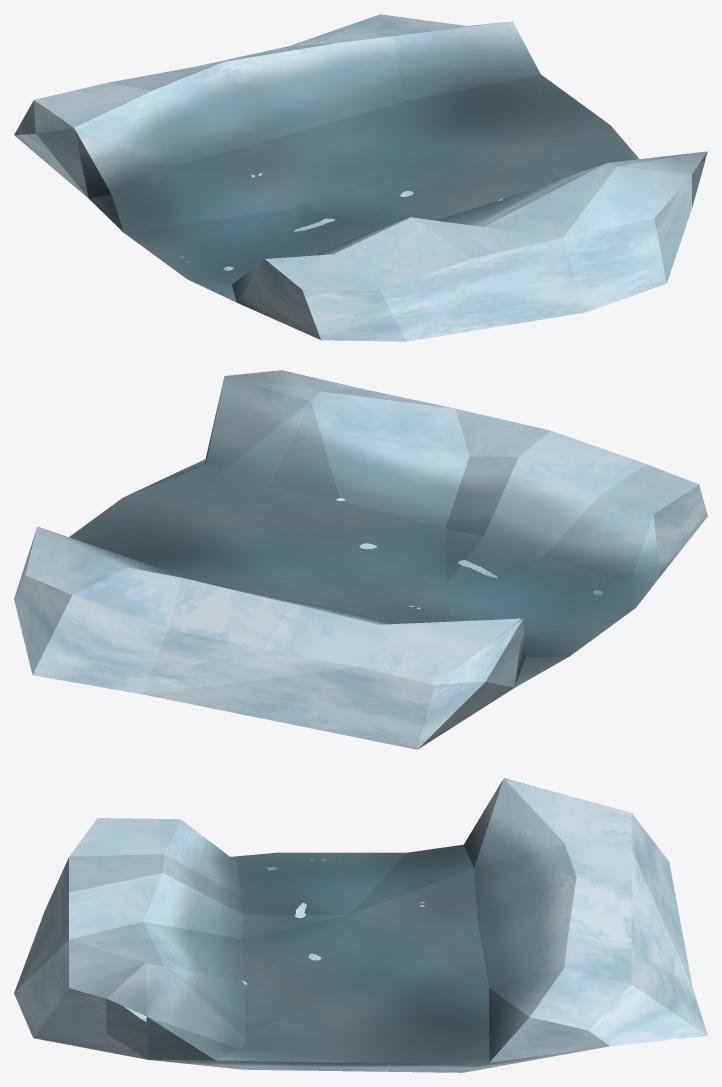
The model's file is meltedSpikes.fbx.
The picture shows the model from 3 angles, top to bottom: view 1: azimuth 30°, elevation 25°; view 2: azimuth 150°, elevation 25°; view 3: azimuth 270°, elevation 25°; orthographic projection. The views are drawn at different scales.
Visible parts, largest first — view 1: Cube; view 2: Cube; view 3: Cube.
Part boxes in pixels (left/top/right/bottom): Cube: left=14, top=14, right=707, bottom=341; Cube: left=14, top=370, right=707, bottom=749; Cube: left=14, top=778, right=707, bottom=1072.
Size of the model in its own units: 202 by 50.44 by 257.
